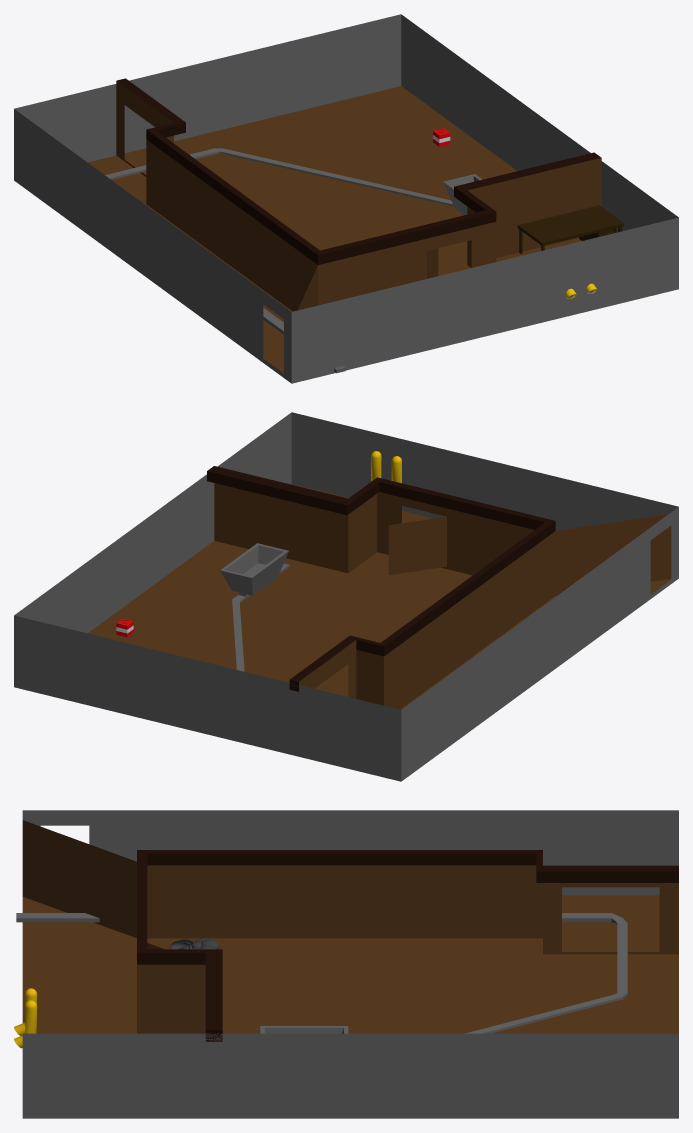
File: EscapeRoomMina.fbx
3 views of the same model, one above another, from view 1: azimuth 30°, elevation 25°; view 2: azimuth 150°, elevation 25°; view 3: azimuth 270°, elevation 25° (orthographic). The views are drawn at different scales.
Visible parts, largest first — view 1: Plane, Plane.001, Cube; view 2: Plane, Cube.001, Cube; view 3: Plane, Cube, Cube.001, Sphere.002, Sphere.005.
Part boxes in pixels (left/top/right/bottom): Plane: left=14, top=14, right=678, bottom=383; Plane.001: left=517, top=205, right=623, bottom=253; Cube: left=105, top=148, right=453, bottom=373; Plane: left=14, top=412, right=678, bottom=781; Cube.001: left=220, top=543, right=288, bottom=596; Cube: left=232, top=563, right=289, bottom=671; Plane: left=22, top=810, right=678, bottom=1118; Cube: left=16, top=913, right=627, bottom=1033; Cube.001: left=260, top=1026, right=348, bottom=1033; Sphere.002: left=170, top=938, right=219, bottom=949; Sphere.005: left=14, top=1000, right=37, bottom=1048.
Bounding box in the file's own units: 464 × 91.58 × 584.
